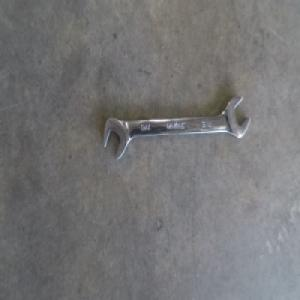Wrench: (103, 94, 248, 157)
